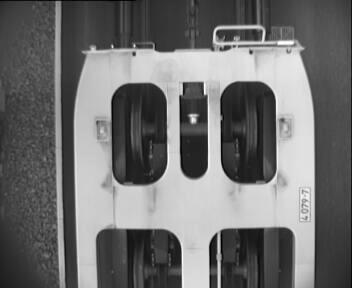Copy of wagon_scan: (102, 79, 285, 188)
